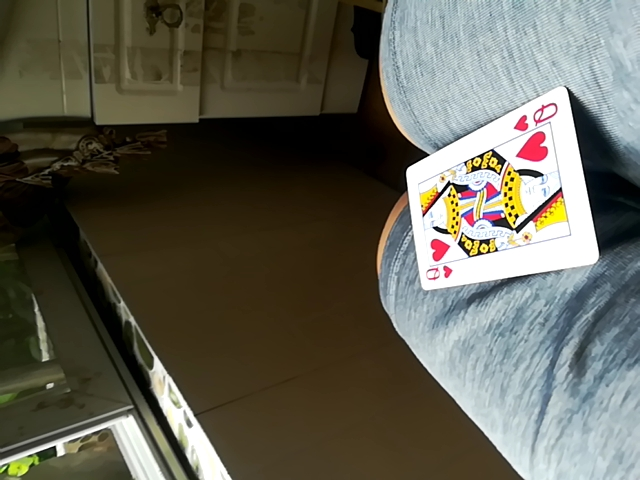hx q: (400, 92, 599, 295)
